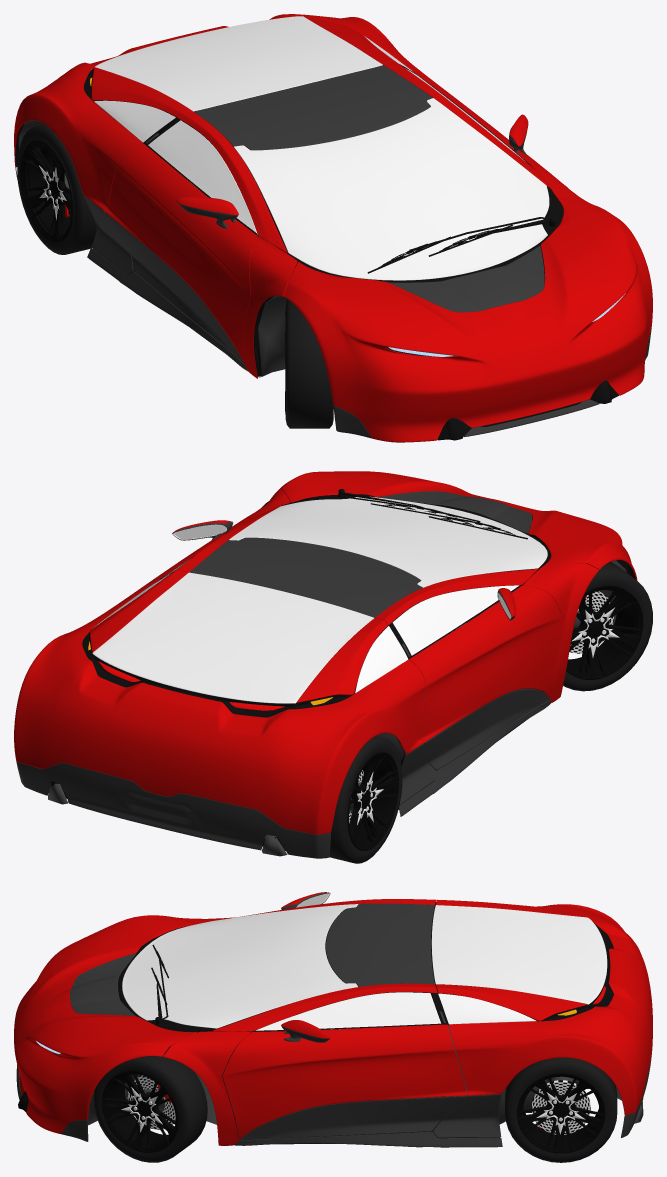
The model's file is car.glb.
3 renders of one model, top to bottom at view 1: azimuth 30°, elevation 25°; view 2: azimuth 150°, elevation 25°; view 3: azimuth 270°, elevation 25°, orthographic. The views are drawn at different scales.
Visible parts, largest first — view 1: BodyHood, BodyWindshield, BodyRearwindow, BodyDoorRColor1, BodyRearPanelsColor1, BodyRoofPanel, BodyPillars, BodyPanelsColor2, BodyHoodTopgrill, WheelFrontR, BodyDoorRWindow, WheelRearRRim (+9 smaller); view 2: BodyRearPanelsColor1, BodyRearwindow, BodyWindshield, BodyPanelsColor2, BodyDoorRColor1, BodyRoofPanel, BodyHood, BodyPillars, WheelFrontRRim, BodyDoorRColor2, WheelRearRRim, BodyDoorRWindow (+7 smaller); view 3: BodyWindshield, BodyRearPanelsColor1, BodyDoorLColor1, BodyHood, BodyRearwindow, BodyRoofPanel, BodyPillars, BodyDoorLColor2, BodyPanelsColor2, WheelFrontL, WheelRearLRim, WheelFrontLRim (+12 smaller).
Boxes of the visible parts, x1,y1,x2,y2 form: BodyHood: (283,198,652,442); BodyWindshield: (234,98,549,280); BodyRearwindow: (94,16,382,111); BodyDoorRColor1: (104,143,257,362); BodyRearPanelsColor1: (14,14,428,210); BodyRoofPanel: (193,65,432,150); BodyPillars: (176,61,598,378); BodyPanelsColor2: (15,167,651,438); BodyHoodTopgrill: (388,245,544,312); WheelFrontR: (285,299,333,428); BodyDoorRWindow: (148,120,257,234); WheelRearRRim: (20,140,73,241); BodyRearPanelsColor1: (14,569,425,834); BodyRearwindow: (92,572,373,703); BodyWindshield: (229,496,547,587); BodyPanelsColor2: (16,700,550,858); BodyDoorRColor1: (409,585,562,742); BodyRoofPanel: (189,537,422,617); BodyHood: (279,471,637,580); BodyPillars: (175,489,599,702); WheelFrontRRim: (566,585,643,679); BodyDoorRColor2: (424,688,549,769); WheelRearRRim: (347,752,398,851); BodyDoorRWindow: (392,585,519,655); BodyWindshield: (122,904,358,1028); BodyRearPanelsColor1: (436,899,652,1115); BodyDoorLColor1: (222,1024,467,1140); BodyHood: (14,915,196,1133); BodyRearwindow: (431,905,607,1004); BodyRoofPanel: (326,903,434,986); BodyPillars: (163,899,437,1145); BodyDoorLColor2: (240,1096,467,1140); BodyPanelsColor2: (16,1046,652,1147); WheelFrontL: (93,1054,207,1162); WheelRearLRim: (517,1073,605,1153); WheelFrontLRim: (102,1070,178,1152).
Bounding box in the file's own units: 2.54 × 1.15 × 4.36.
Materials: 22 (2 with a texture image).
